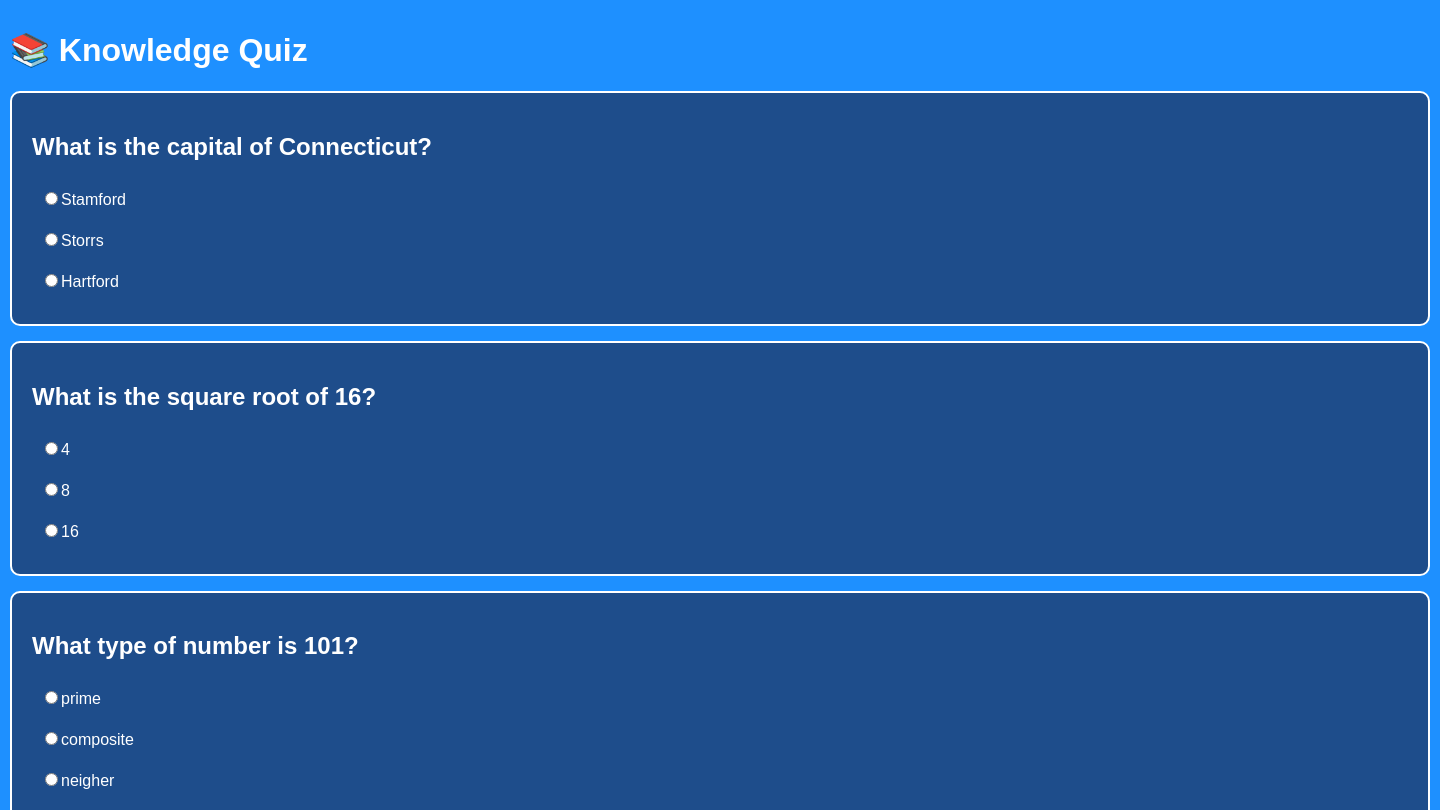
Quiz Component › displays results after submission
This screenshot has width=1440, height=810.
# Answer all questions correctly
Click the radio button labelled "Hartford": point(52, 280) x1=45 y1=274 x2=58 y2=287
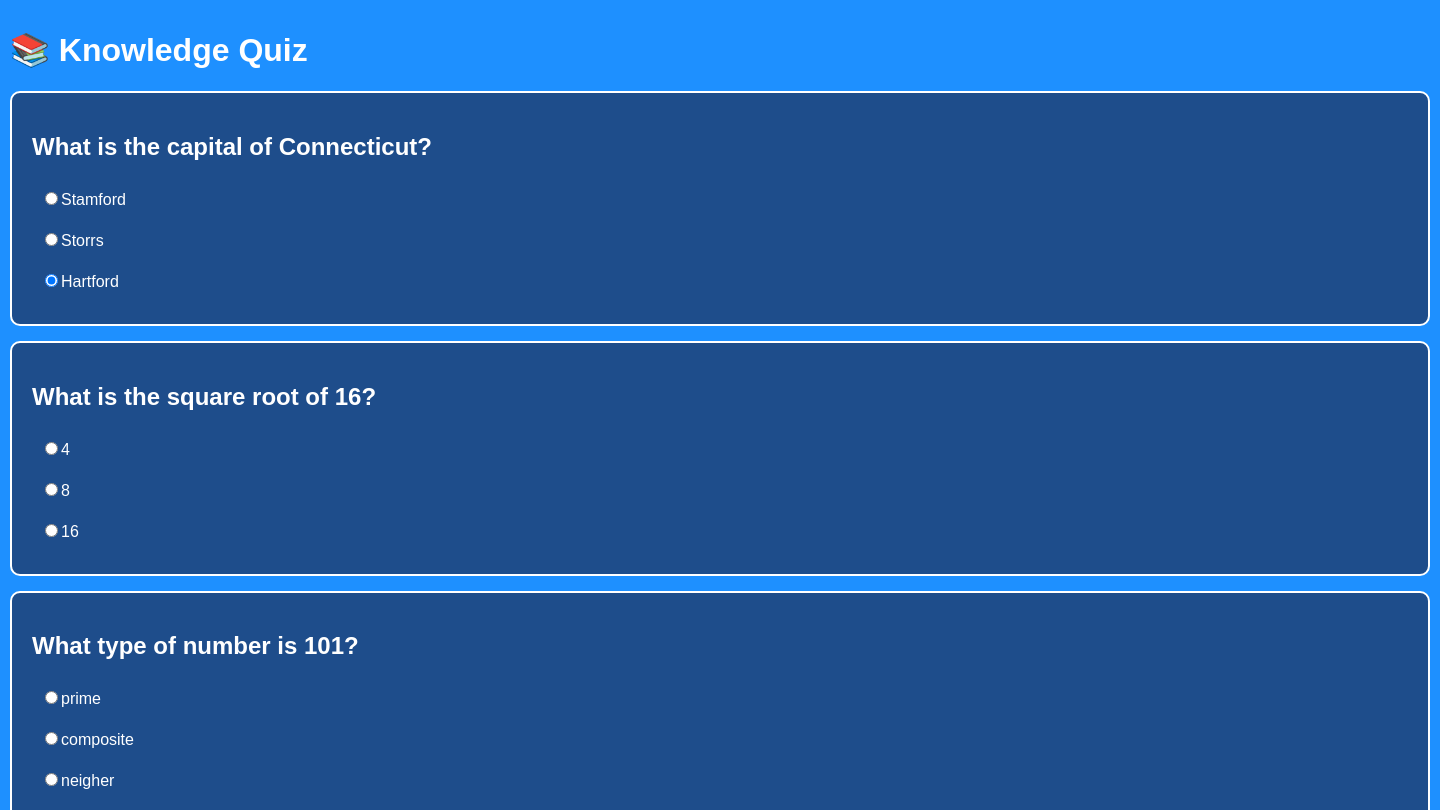
Click the radio button labelled "4": point(52, 448) x1=45 y1=442 x2=58 y2=454
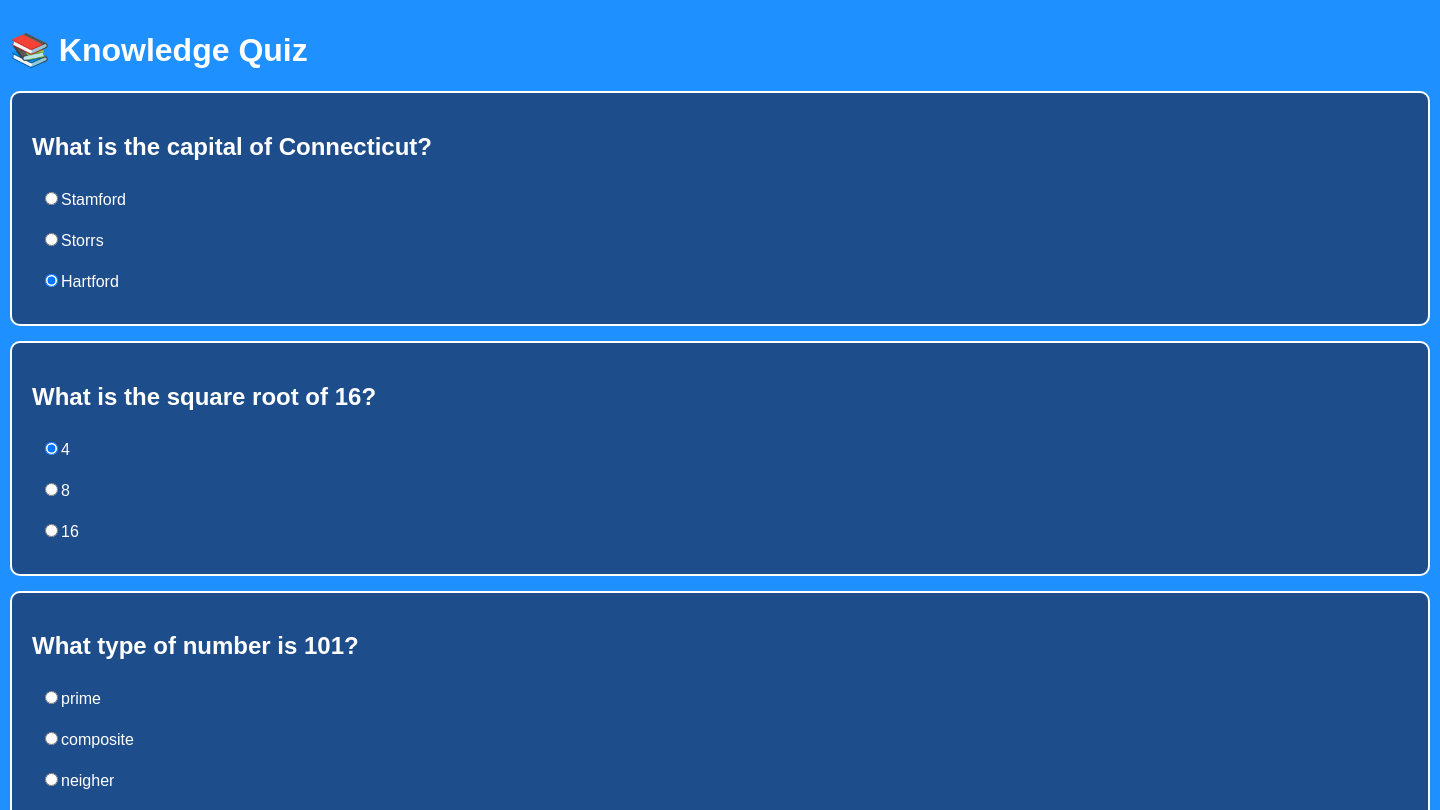
Click the radio button labelled "prime": point(52, 698) x1=45 y1=691 x2=58 y2=704
(page scrolled)
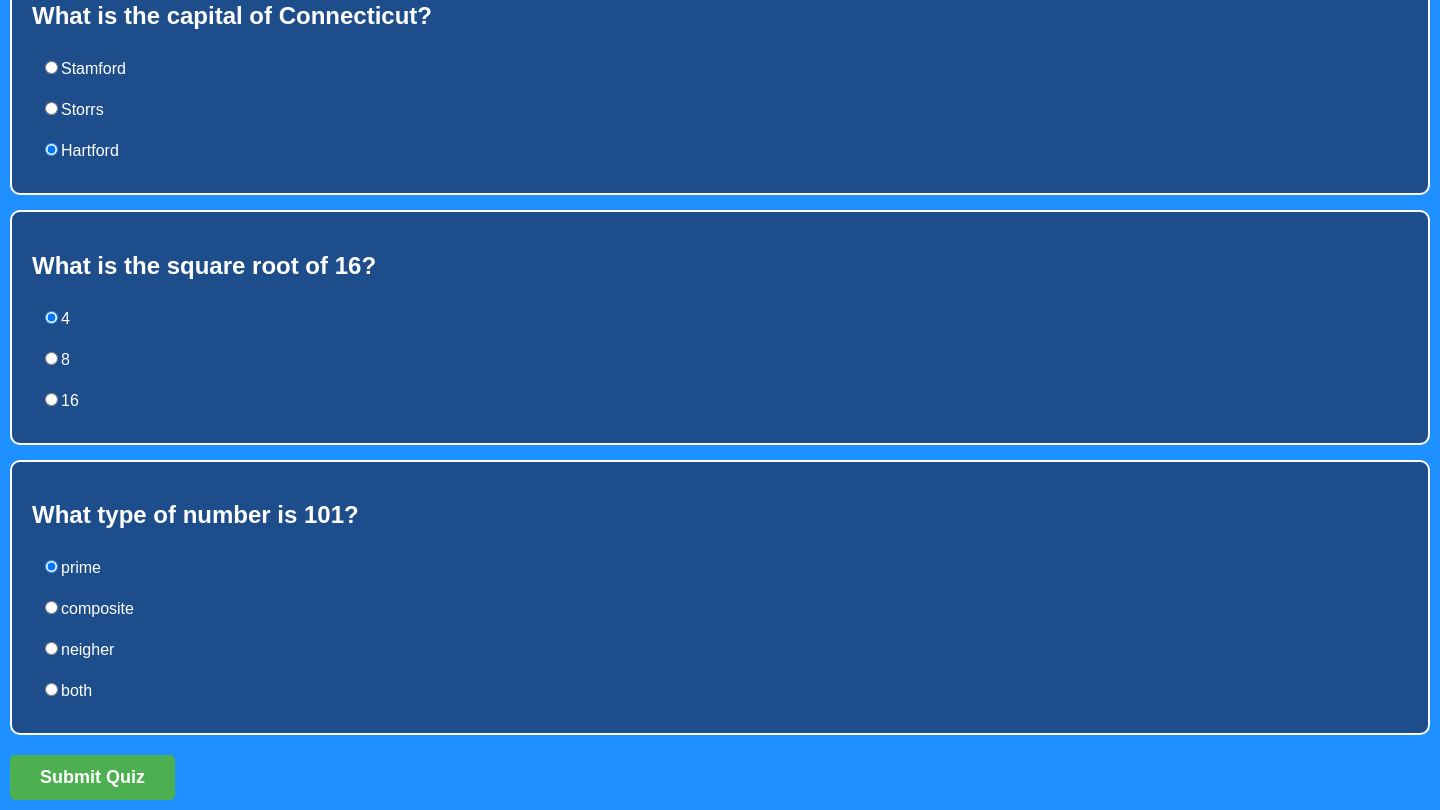
Click the button "Submit Quiz": point(92, 778) x1=10 y1=755 x2=175 y2=800
(page scrolled)
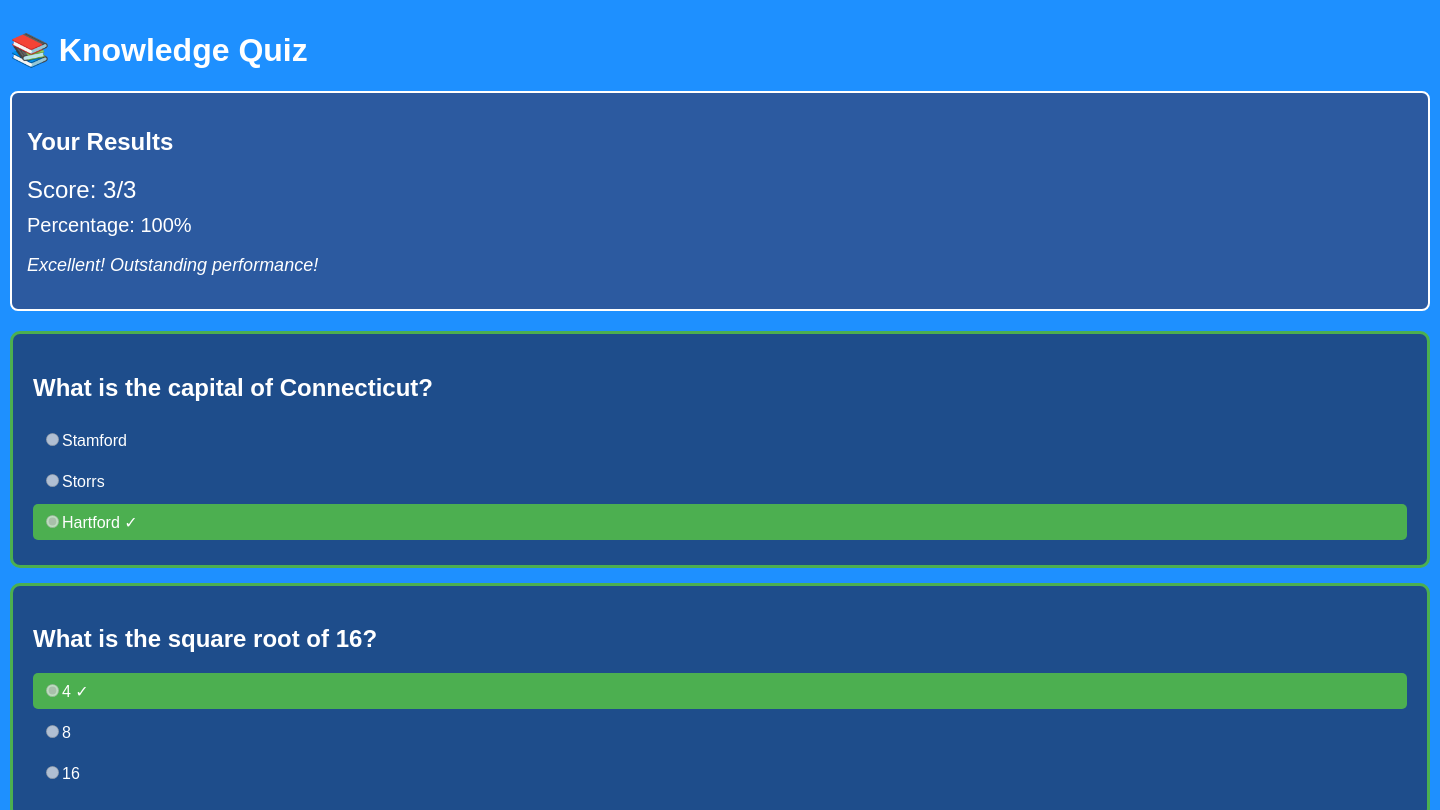
Now the heading "Your Results" is shown, box x1=27 y1=128 x2=173 y2=155
